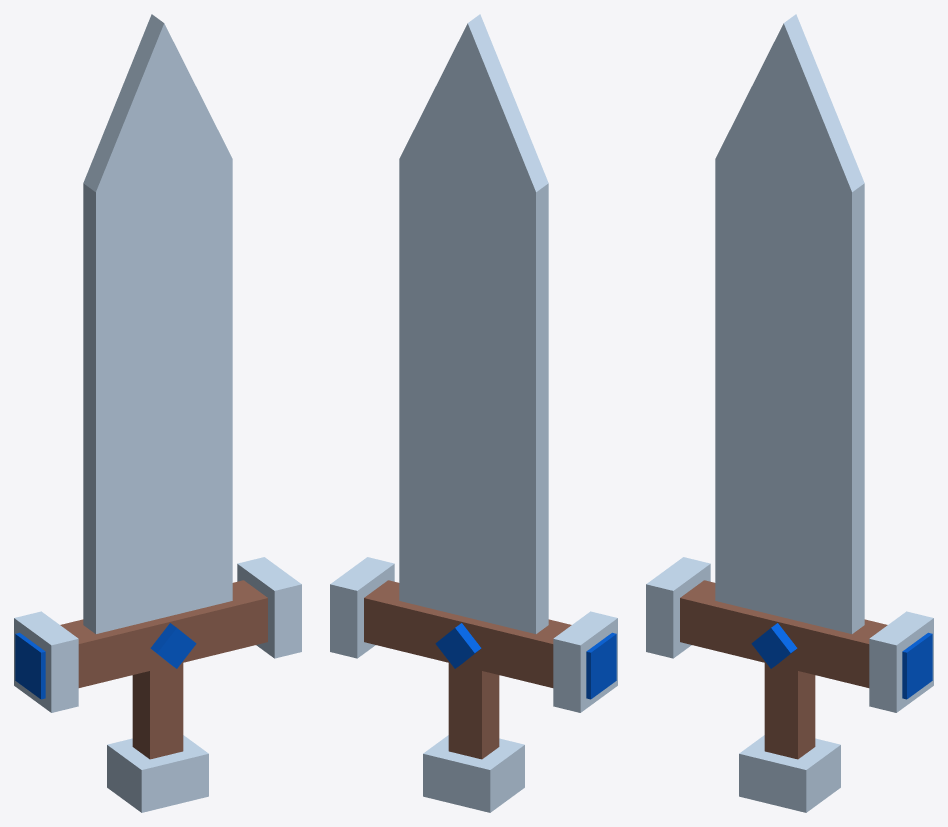
File: Sword_Basic.fbx
The picture shows the model from 3 angles, left to right: view 1: azimuth 30°, elevation 25°; view 2: azimuth 150°, elevation 25°; view 3: azimuth 330°, elevation 25°; orthographic projection.
Visible parts, largest first — view 1: Cube; view 2: Cube; view 3: Cube.
Boxes of the visible parts, left/top/right/bottom form: Cube: left=14, top=14, right=301, bottom=812; Cube: left=330, top=14, right=617, bottom=812; Cube: left=646, top=14, right=933, bottom=812.
Size of the model in its own units: 221 by 630 by 55.92.
